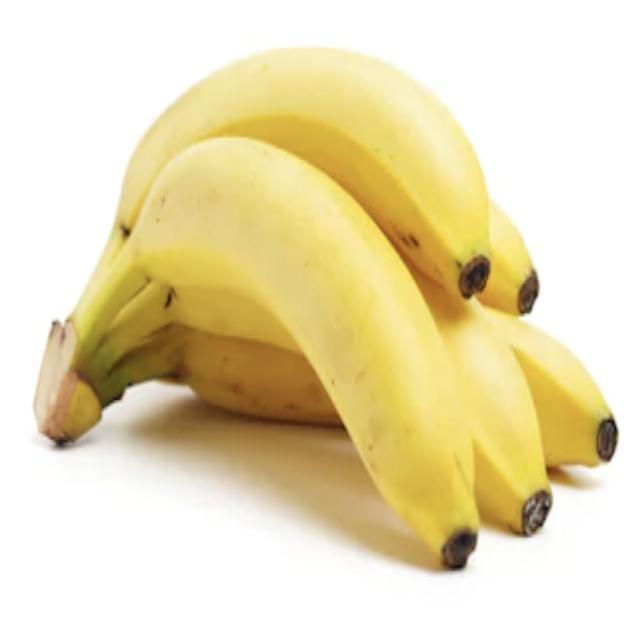Banana: (33, 44, 619, 570)
